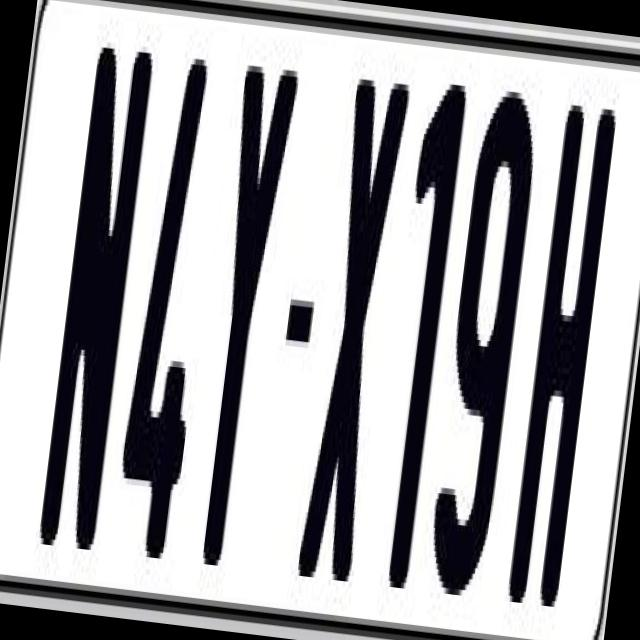1: (361, 81, 466, 594)
4: (107, 44, 235, 560)
9: (417, 81, 539, 614)
H: (499, 103, 620, 624)
N: (36, 47, 152, 550)
X: (292, 71, 416, 600)
Y: (185, 53, 304, 568)
